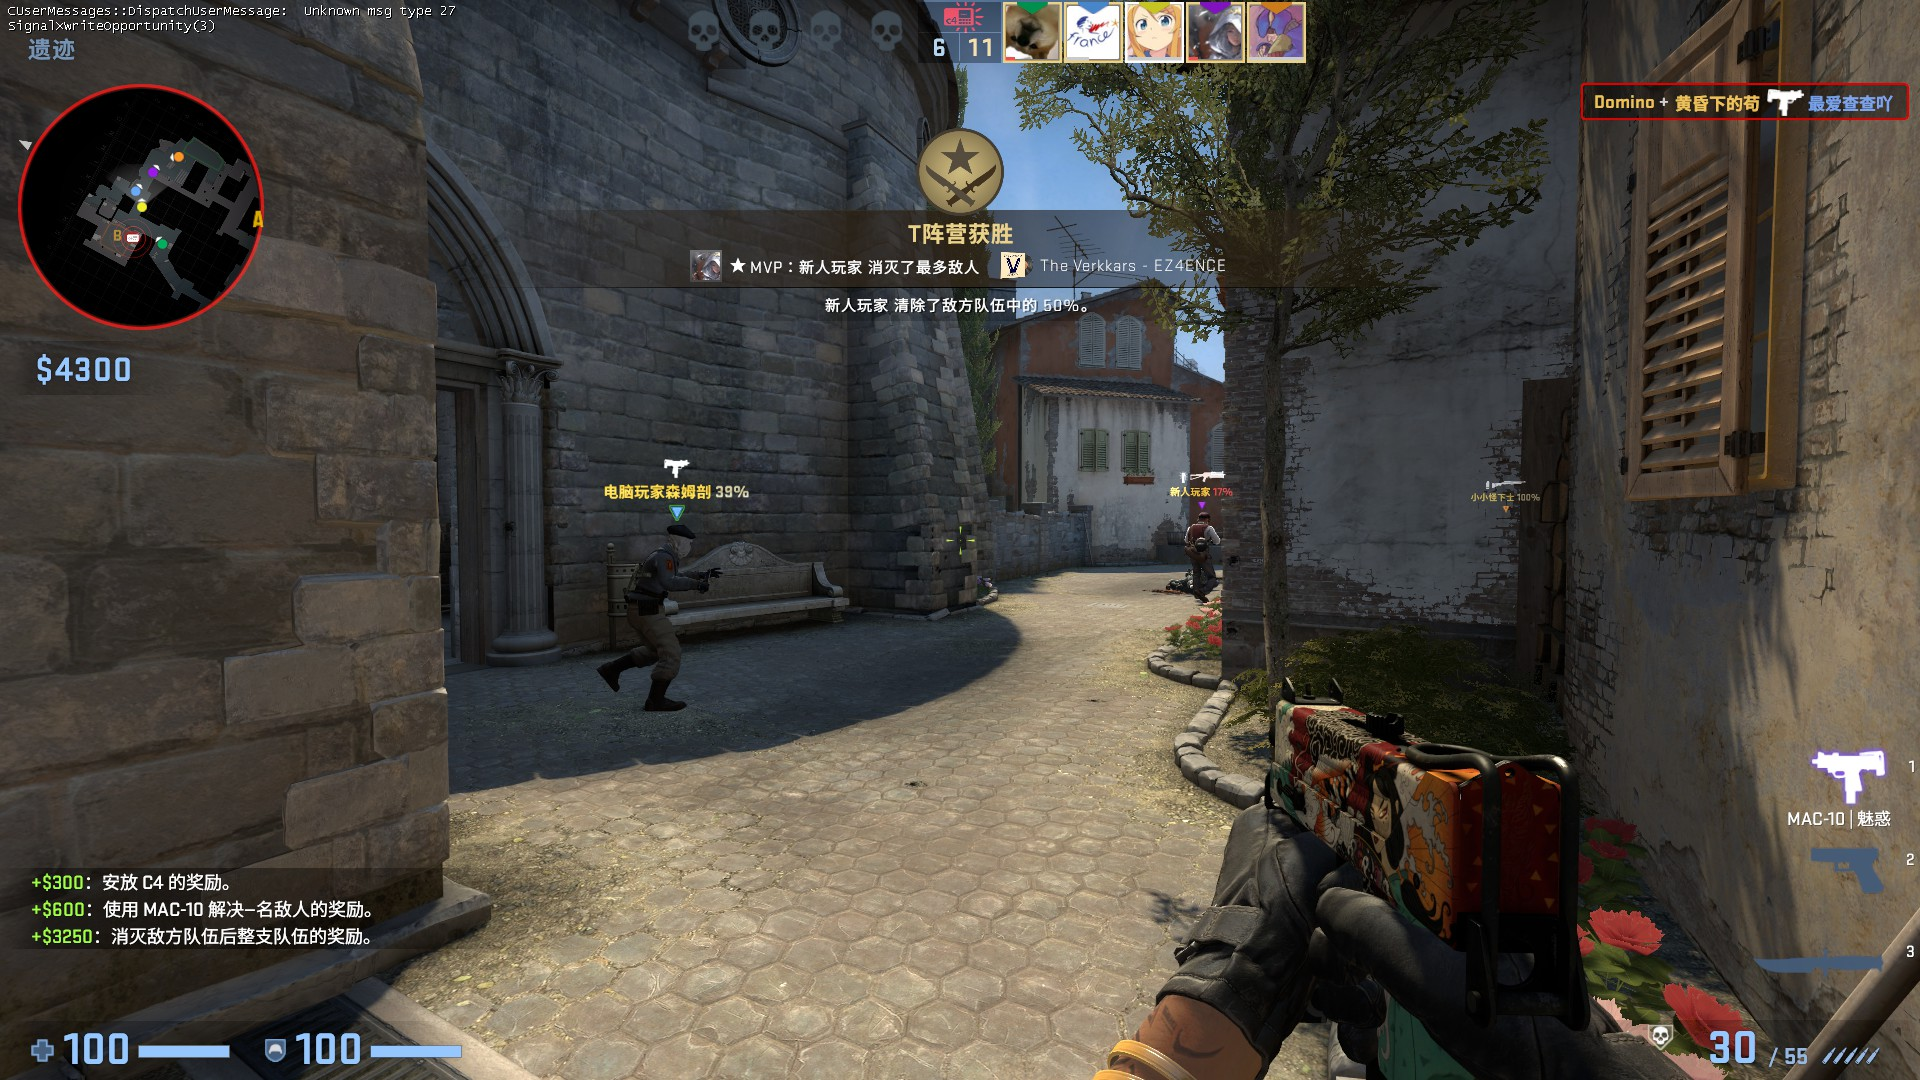head: (660, 522, 698, 562), (1195, 510, 1211, 525)
